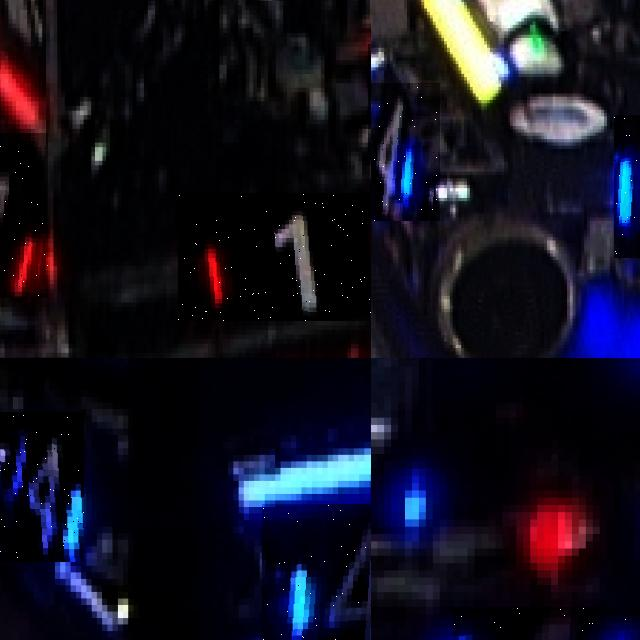B4: (262, 503, 371, 640), (0, 412, 83, 562), (371, 83, 440, 220), (453, 607, 640, 640)
R1: (177, 193, 371, 321), (0, 133, 47, 297)
